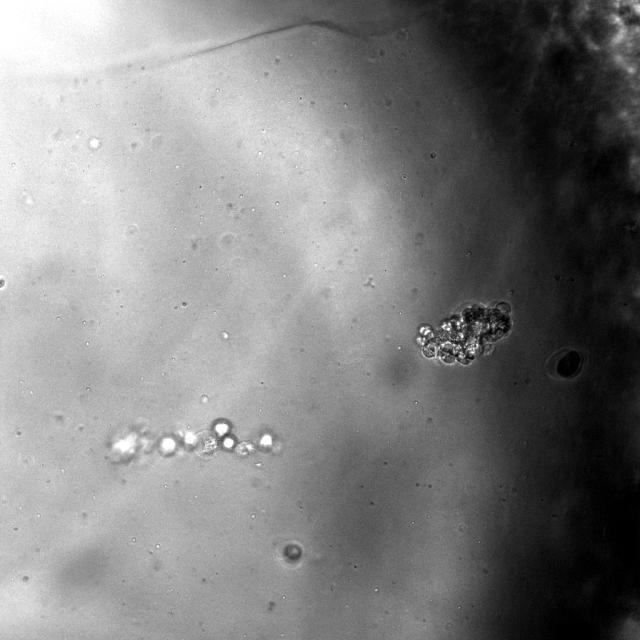organoid: (108, 418, 279, 462), (416, 302, 511, 365), (283, 544, 301, 560)
